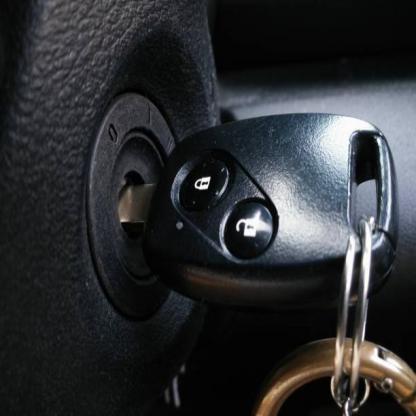keys: (110, 114, 404, 304)
